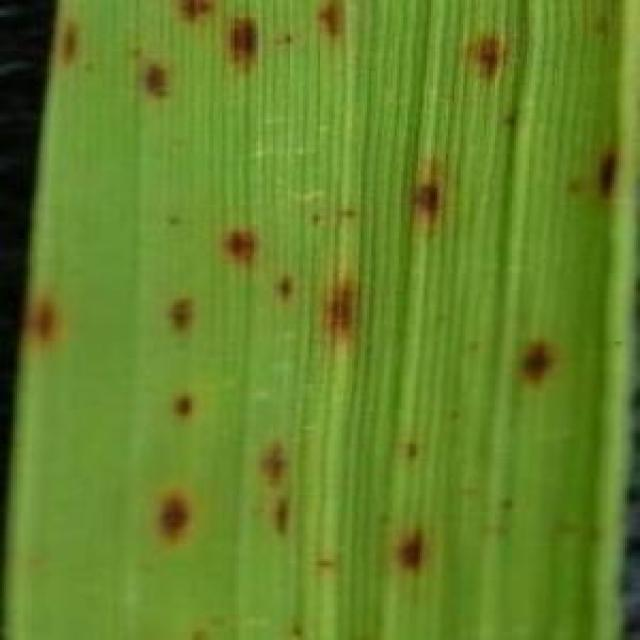Brown_Spot: (308, 263, 383, 368), (143, 361, 220, 442), (198, 198, 270, 282), (140, 484, 216, 559), (395, 150, 454, 240), (382, 516, 444, 594), (245, 482, 318, 542), (458, 28, 522, 95), (20, 282, 71, 364), (248, 436, 316, 495), (508, 335, 570, 399), (140, 290, 218, 340), (217, 12, 267, 74), (137, 56, 183, 106), (296, 0, 360, 35), (595, 147, 626, 207), (294, 199, 335, 243), (55, 13, 87, 68), (487, 101, 536, 136), (169, 0, 228, 26), (392, 438, 437, 470), (274, 261, 296, 312), (486, 489, 519, 522), (456, 338, 490, 363), (283, 616, 318, 638), (337, 202, 368, 225), (156, 208, 184, 232), (432, 404, 467, 423), (312, 548, 335, 576), (562, 171, 580, 206), (278, 28, 302, 52), (190, 628, 210, 640)
